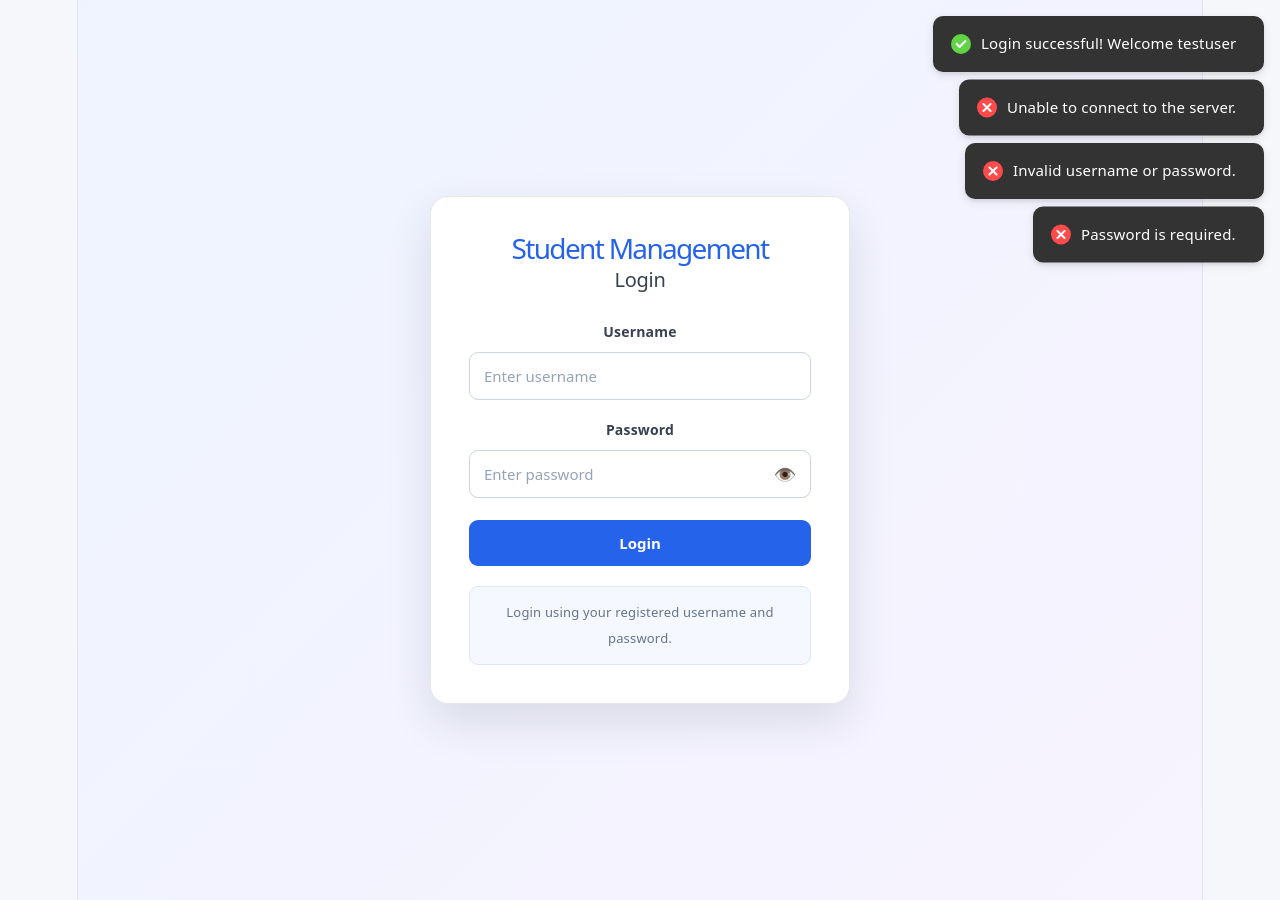
it: Login form › rejects login when the response contains missing token
The width and height of the screenshot is (1280, 900).
Type "testuser" into the field labelled "Username" at [640, 376], box [469,352,811,400]
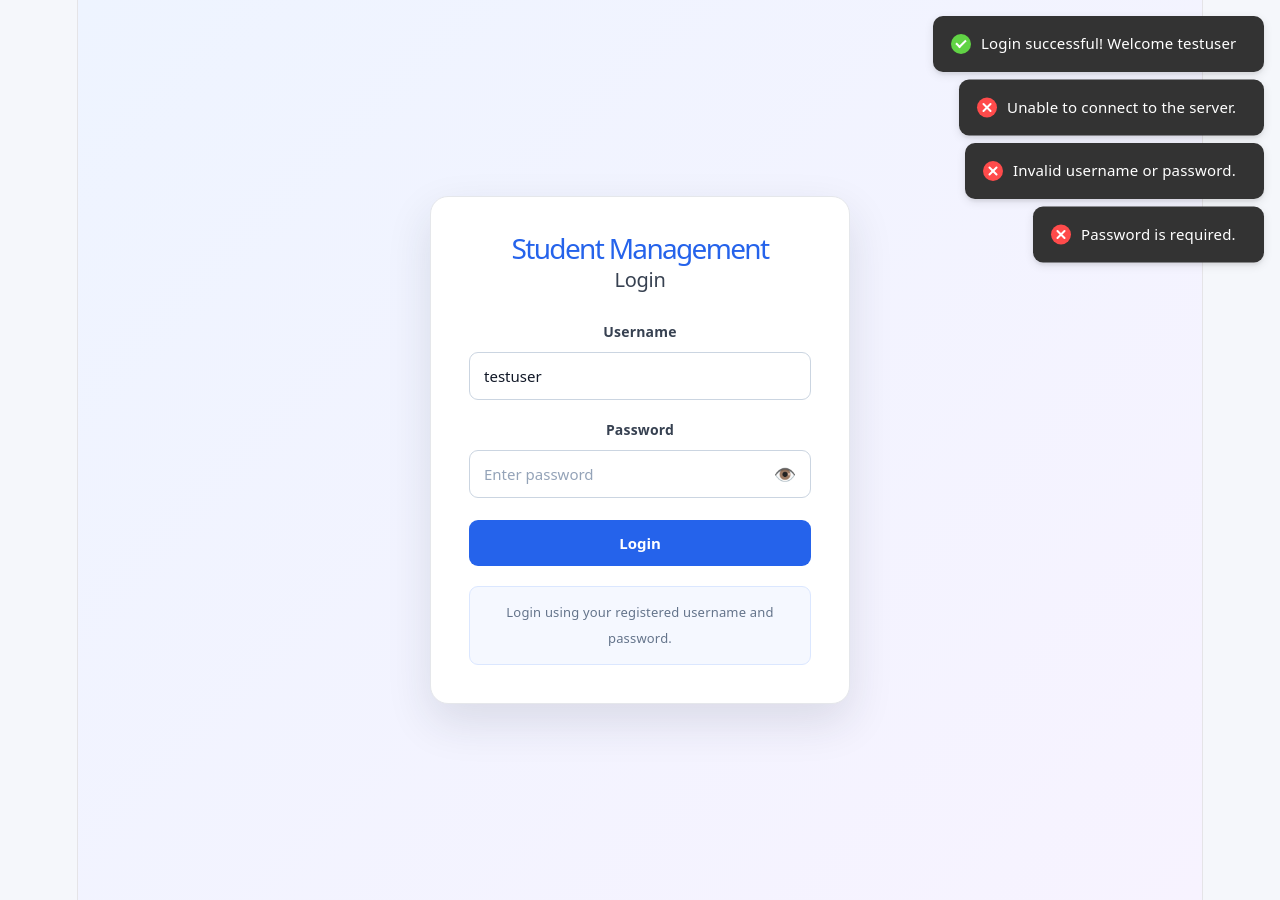
Type "correctpassword" into the password field labelled "Password" at [640, 474], box [469,450,811,498]
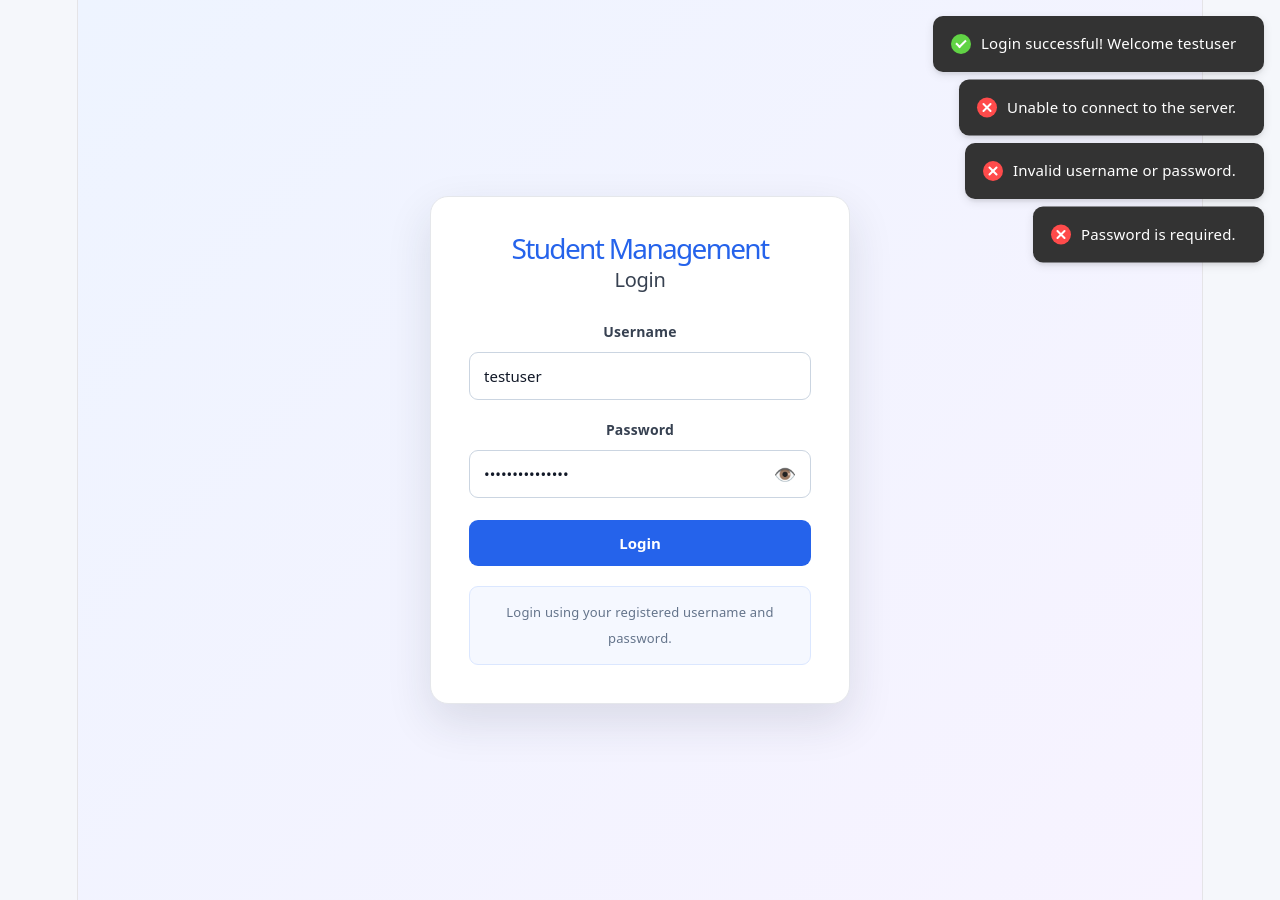
Click the button "Login" at [640, 543], box [469,520,811,566]
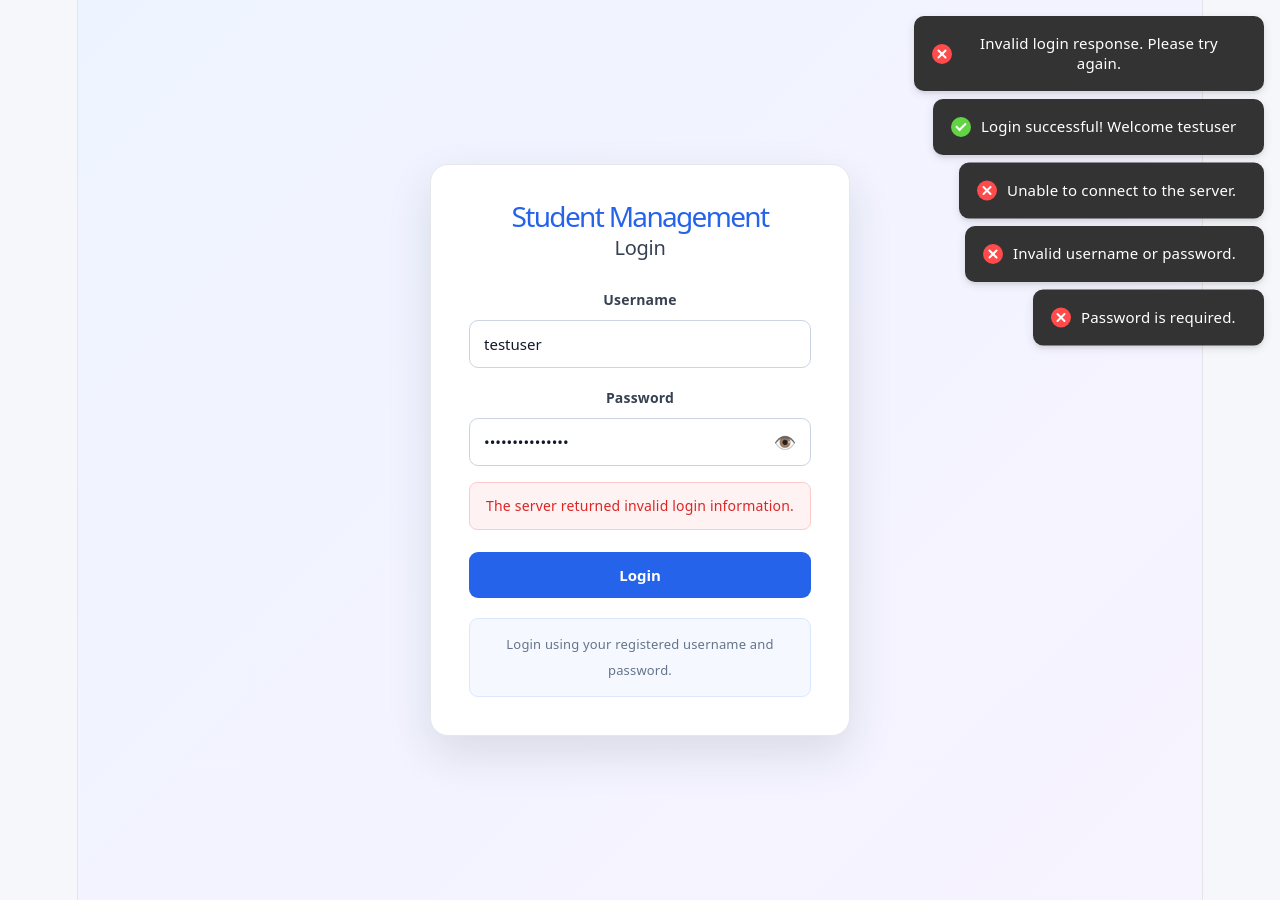
Result: the text "The server returned invalid login information." is shown at [469,482,811,530]
